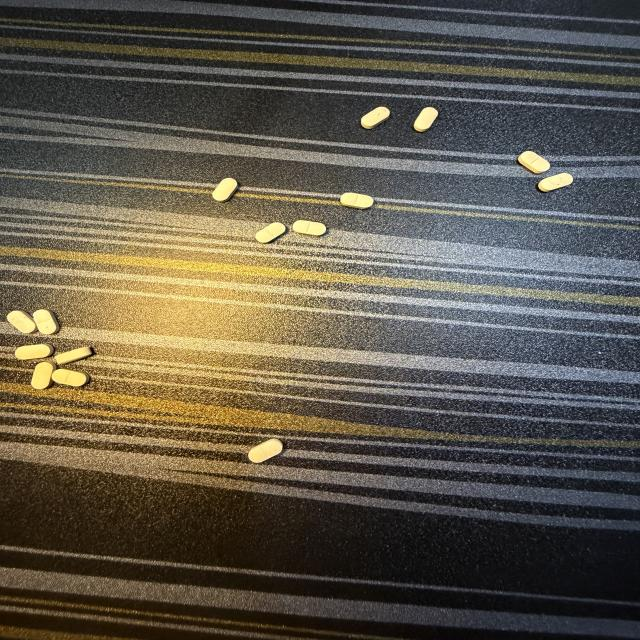pill: (249, 439, 282, 463), (54, 347, 94, 365), (518, 151, 550, 173), (31, 362, 56, 389), (7, 311, 36, 333), (361, 107, 390, 129), (538, 173, 573, 191), (52, 369, 89, 386), (414, 107, 438, 132), (213, 178, 238, 202), (34, 310, 59, 334), (256, 223, 286, 243), (15, 344, 54, 359), (292, 220, 326, 236), (340, 193, 373, 209)
